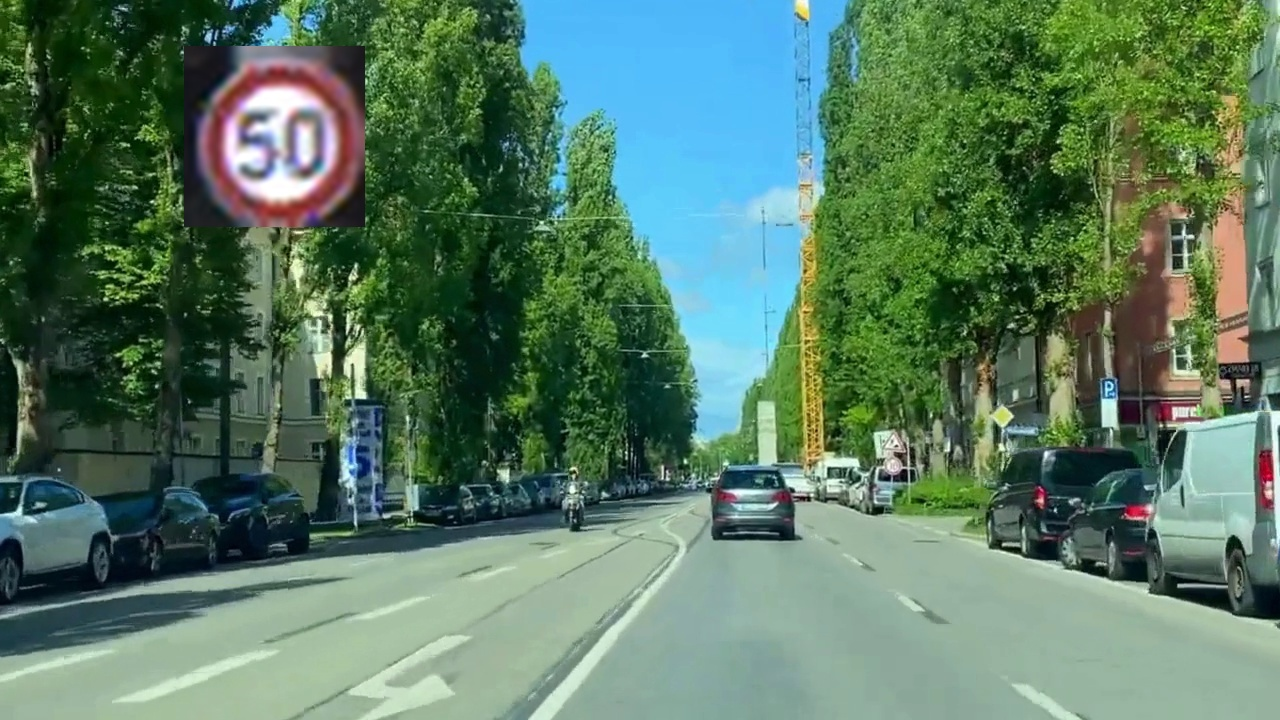Speed 50: (184, 46, 365, 227)
